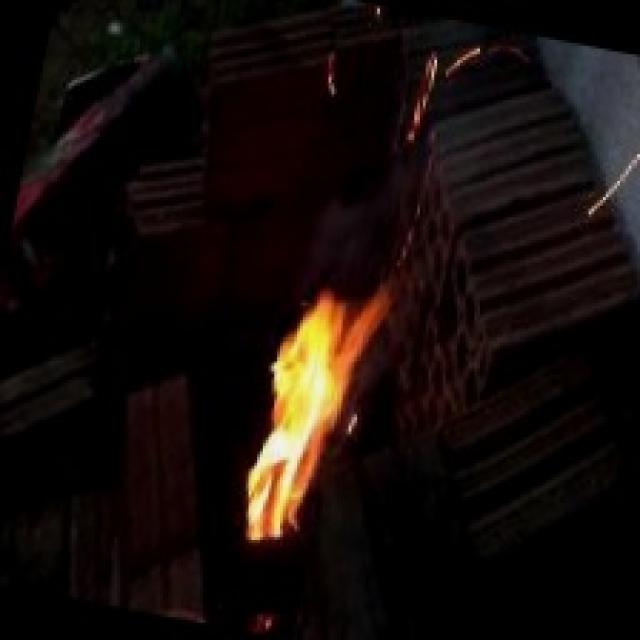fire: (206, 250, 414, 593)
